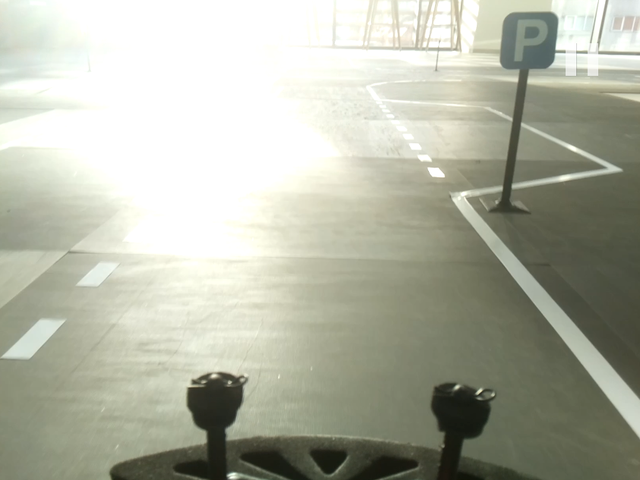parking: (499, 11, 558, 70)
